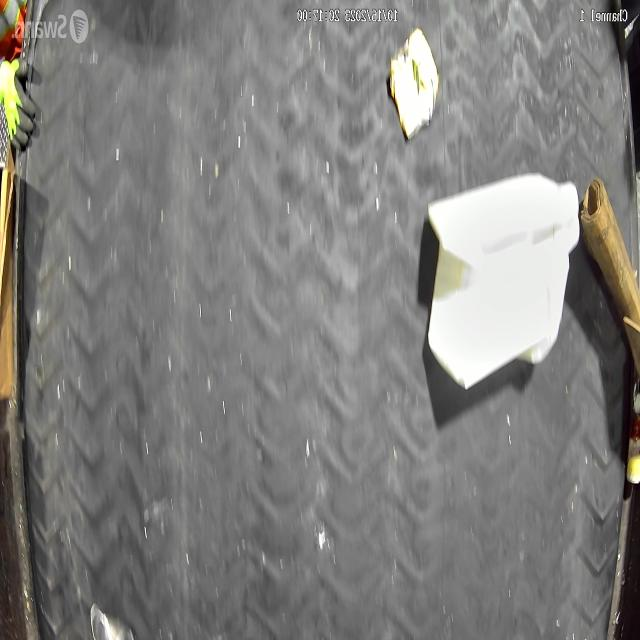can: (388, 25, 441, 142)
milk_jug: (425, 168, 582, 394)
